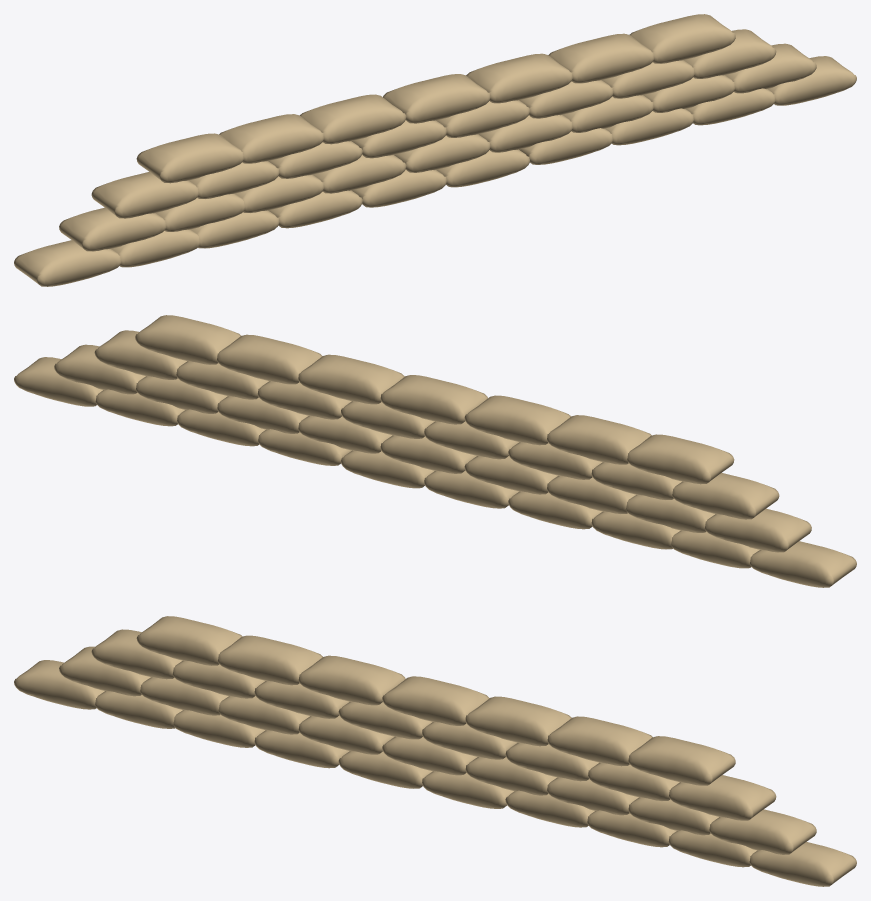
Rendered from Sandbags.fbx.
3 renders of one model, top to bottom at view 1: azimuth 30°, elevation 25°; view 2: azimuth 150°, elevation 25°; view 3: azimuth 330°, elevation 25°, orthographic.
Parts seen in each view (by area): view 1: Sandbag.033, Sandbag.008, Sandbag.017, Sandbag.024, Sandbag.010, Sandbag.027, Sandbag.011, Sandbag.030, Sandbag.032, Sandbag.031, Sandbag.026, Sandbag.029 (+22 smaller); view 2: Sandbag.033, Sandbag.008, Sandbag.017, Sandbag.024, Sandbag.010, Sandbag.027, Sandbag.011, Sandbag.030, Sandbag.032, Sandbag.031, Sandbag.026, Sandbag.029 (+22 smaller); view 3: Sandbag.027, Sandbag.010, Sandbag.008, Sandbag.017, Sandbag.011, Sandbag.024, Sandbag.033, Sandbag.026, Sandbag.029, Sandbag.028, Sandbag.030, Sandbag.032 (+22 smaller).
Part boxes in pixels (<box>): Sandbag.033: <box>136,133,243,183</box>; Sandbag.008: <box>383,74,490,123</box>; Sandbag.017: <box>466,53,572,103</box>; Sandbag.024: <box>548,33,653,83</box>; Sandbag.010: <box>300,94,406,144</box>; Sandbag.027: <box>629,14,735,63</box>; Sandbag.011: <box>219,114,323,163</box>; Sandbag.030: <box>14,240,120,286</box>; Sandbag.032: <box>91,172,198,218</box>; Sandbag.031: <box>59,207,166,251</box>; Sandbag.026: <box>684,29,776,78</box>; Sandbag.029: <box>725,43,816,93</box>; Sandbag.033: <box>627,434,734,484</box>; Sandbag.008: <box>380,375,487,424</box>; Sandbag.017: <box>298,354,404,404</box>; Sandbag.024: <box>217,334,322,384</box>; Sandbag.010: <box>464,395,570,445</box>; Sandbag.027: <box>135,315,241,364</box>; Sandbag.011: <box>547,415,651,464</box>; Sandbag.030: <box>750,541,856,587</box>; Sandbag.032: <box>672,473,779,519</box>; Sandbag.031: <box>704,508,811,552</box>; Sandbag.026: <box>94,330,186,379</box>; Sandbag.029: <box>54,344,145,394</box>; Sandbag.027: <box>628,736,735,785</box>; Sandbag.010: <box>298,655,405,705</box>; Sandbag.008: <box>382,676,489,725</box>; Sandbag.017: <box>465,696,571,746</box>; Sandbag.011: <box>218,635,322,685</box>; Sandbag.024: <box>547,716,652,766</box>; Sandbag.033: <box>136,616,242,665</box>; Sandbag.026: <box>669,775,776,820</box>; Sandbag.029: <box>709,809,816,854</box>; Sandbag.028: <box>749,842,856,886</box>; Sandbag.030: <box>14,660,104,709</box>; Sandbag.032: <box>91,629,182,679</box>.
Size of the model in its own units: 1810 by 220 by 102.
